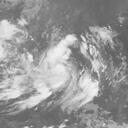cyclone: (29, 35, 84, 95)
